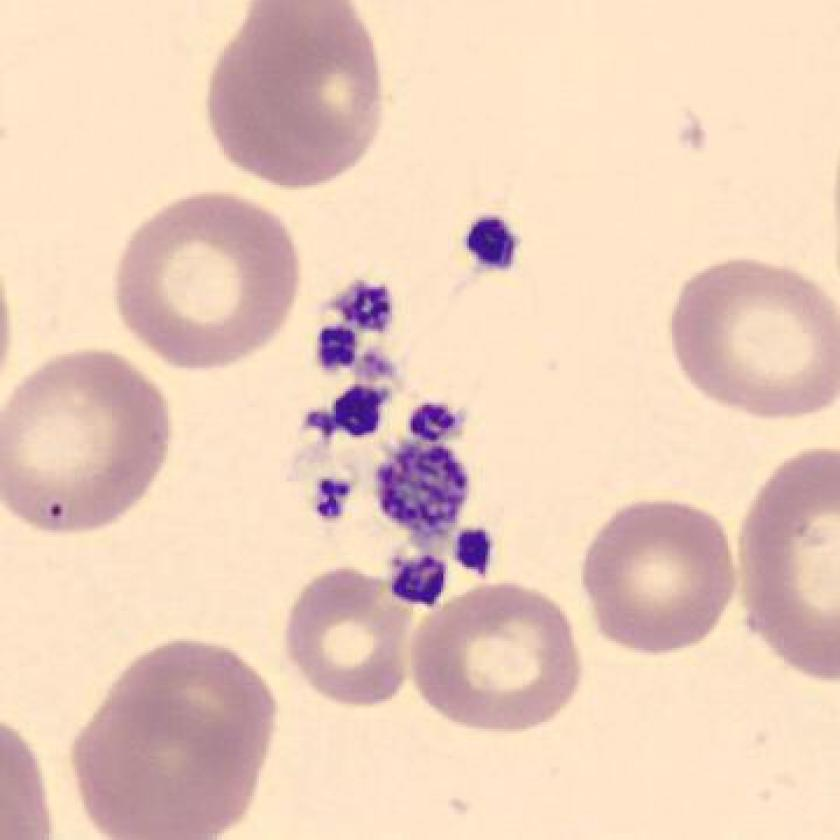platelets: (374, 438, 470, 547), (458, 207, 533, 283), (326, 276, 410, 339), (298, 321, 368, 381), (330, 378, 391, 445), (391, 552, 451, 617), (410, 397, 459, 450), (459, 531, 494, 582)
